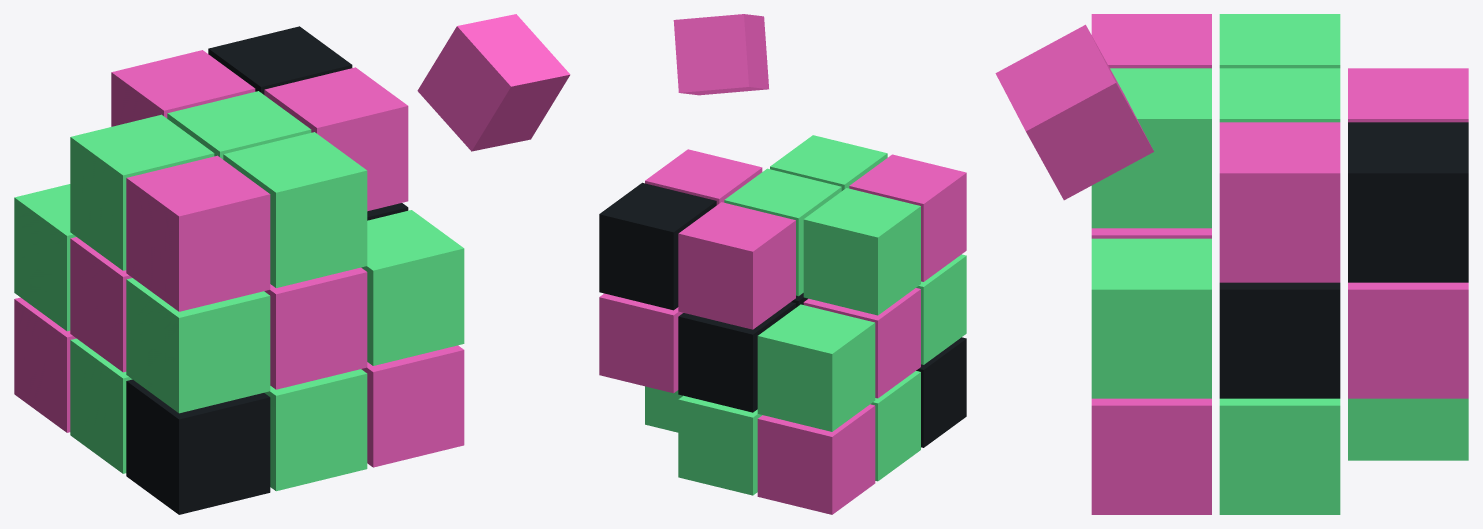
File: TrophyVoxel.obj
The picture shows the model from 3 angles, left to right: view 1: azimuth 30°, elevation 25°; view 2: azimuth 150°, elevation 25°; view 3: azimuth 270°, elevation 25°; orthographic projection. The views are drawn at different scales.
Parts seen in each view (by area): view 1: TrophyVoxel; view 2: TrophyVoxel; view 3: TrophyVoxel.
Part boxes in pixels (left/top/right/bottom): TrophyVoxel: left=14, top=14, right=570, bottom=514; TrophyVoxel: left=599, top=14, right=966, bottom=514; TrophyVoxel: left=995, top=14, right=1468, bottom=514.
Bounding box in the file's own units: 0.2804 × 0.3129 × 0.2767.
